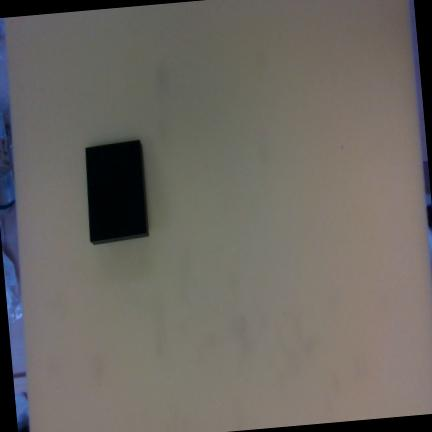tile: (83, 139, 146, 243)
